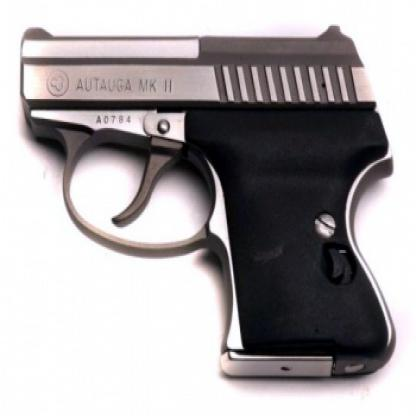Guns: (17, 19, 398, 380)
